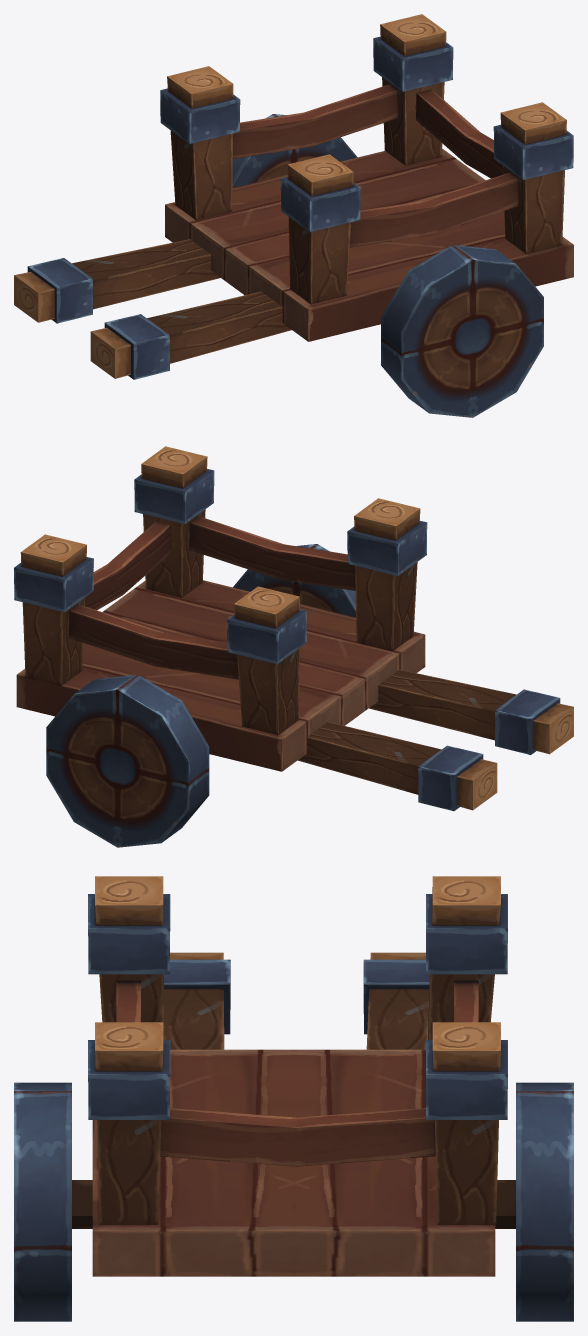
The model's file is wooden_cart.fbx.
3 views of the same model, one above another, from view 1: azimuth 30°, elevation 25°; view 2: azimuth 150°, elevation 25°; view 3: azimuth 270°, elevation 25° (orthographic). The views are drawn at different scales.
Parts seen in each view (by area): view 1: wooden_cart; view 2: wooden_cart; view 3: wooden_cart.
Part boxes in pixels (x1,y1,x2,y2): wooden_cart: (14,14,573,417); wooden_cart: (14,446,573,847); wooden_cart: (14,876,573,1321).
Bounding box in the file's own units: 5.82 × 3.14 × 4.61.
